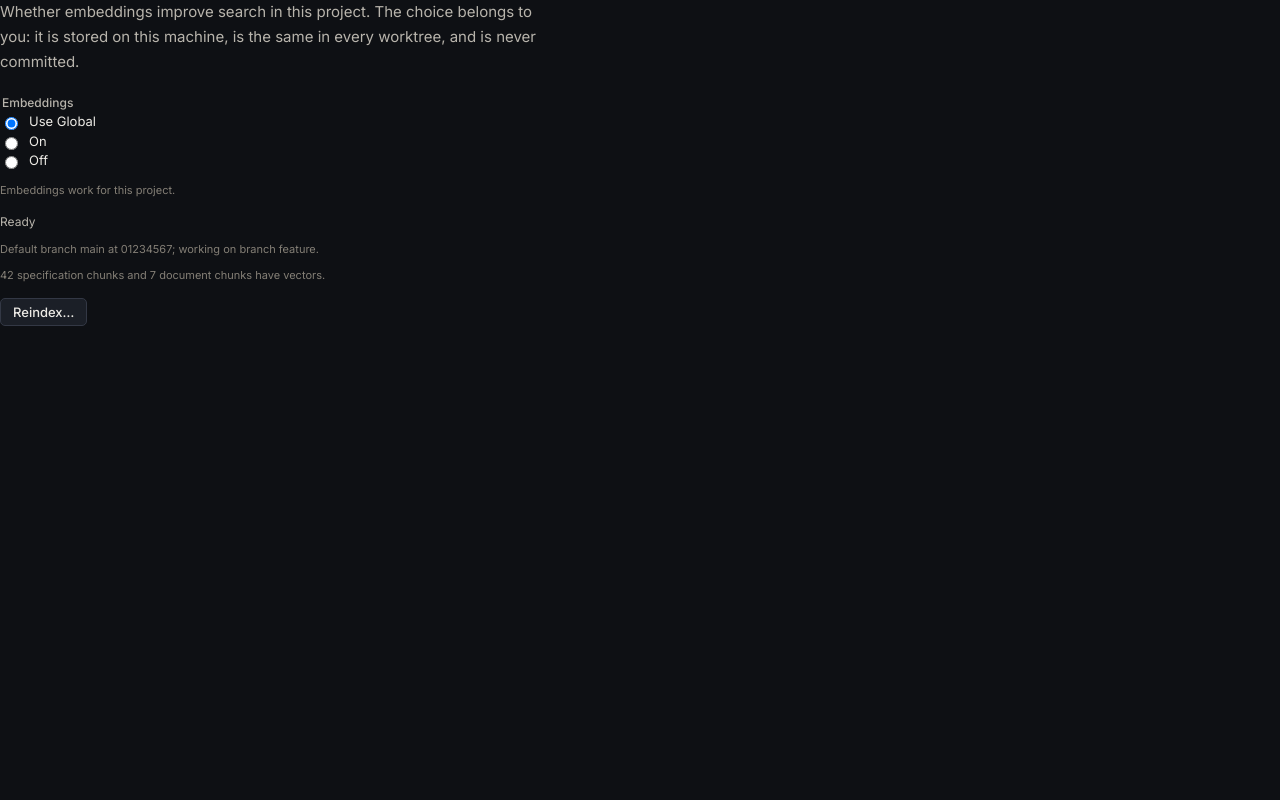
Test: Project Indexing section › SET-FR-WZPS: the dialog offers Current branch (selected) and Whole trace; confirming starts that scope
The width and height of the screenshot is (1280, 800).
Click the button "Reindex…". click: click(44, 312)
box: 0,298 -> 88,326
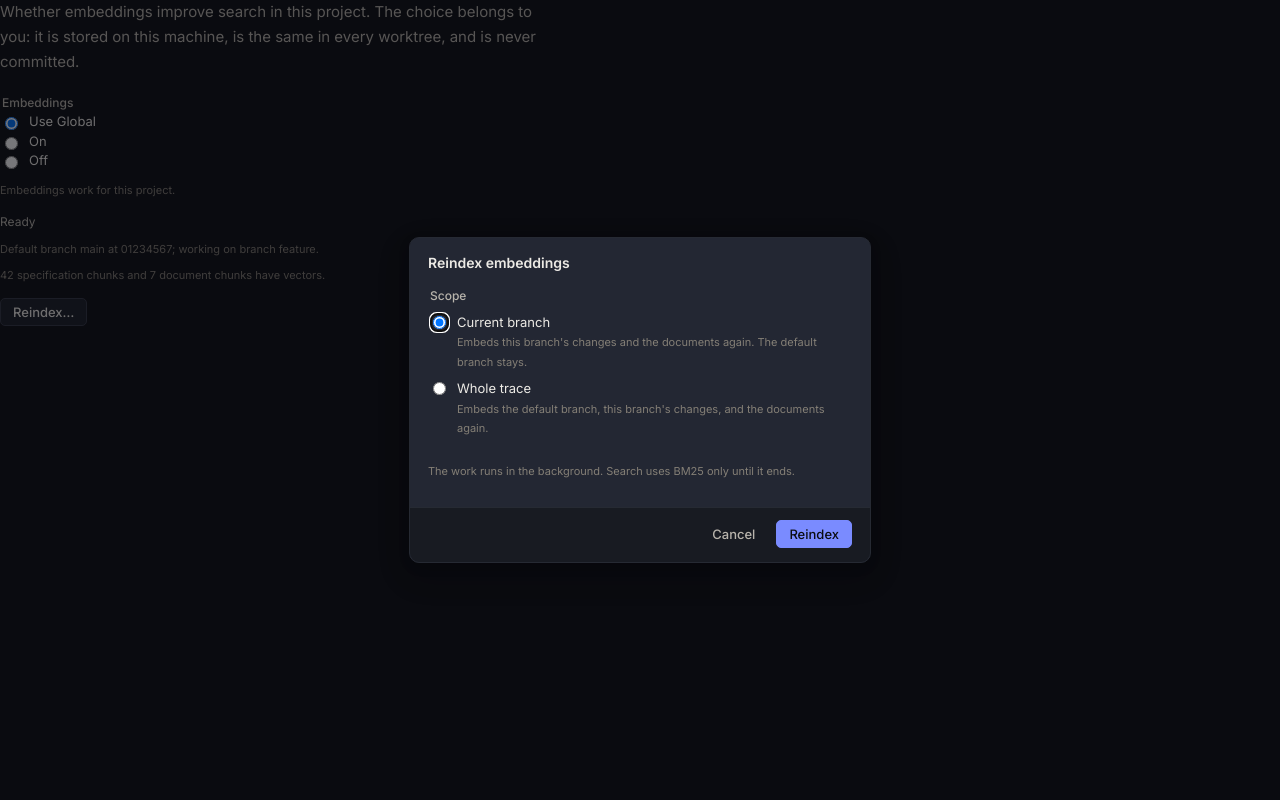
Check: the radio button labelled "Current branch" is checked, box 433,316 -> 446,329
Check: the element with test id "reindex-dialog" shows "The default branch stays", box 457,335 -> 817,369
Click the radio button labelled "Whole trace". click: click(440, 389)
box: 433,382 -> 446,395
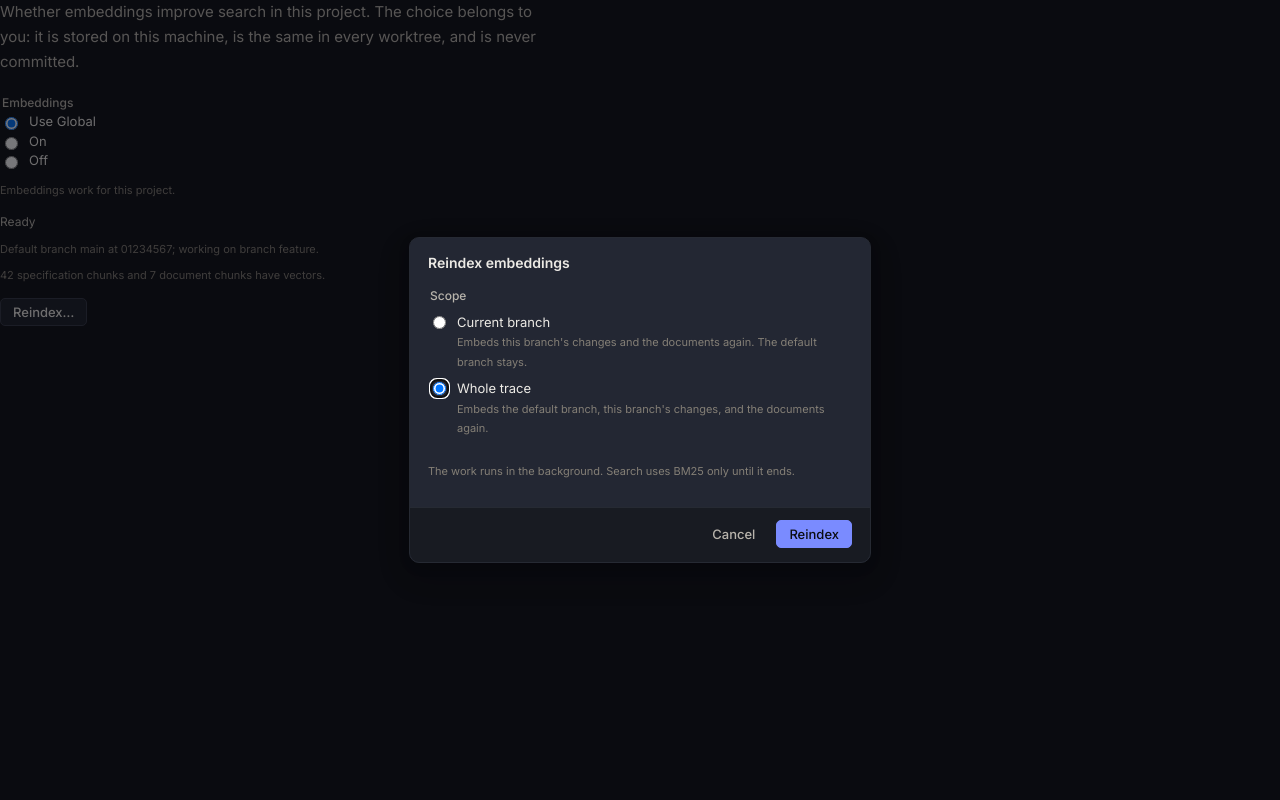
Click the button "Reindex". click: click(814, 534)
box: 776,520 -> 852,548
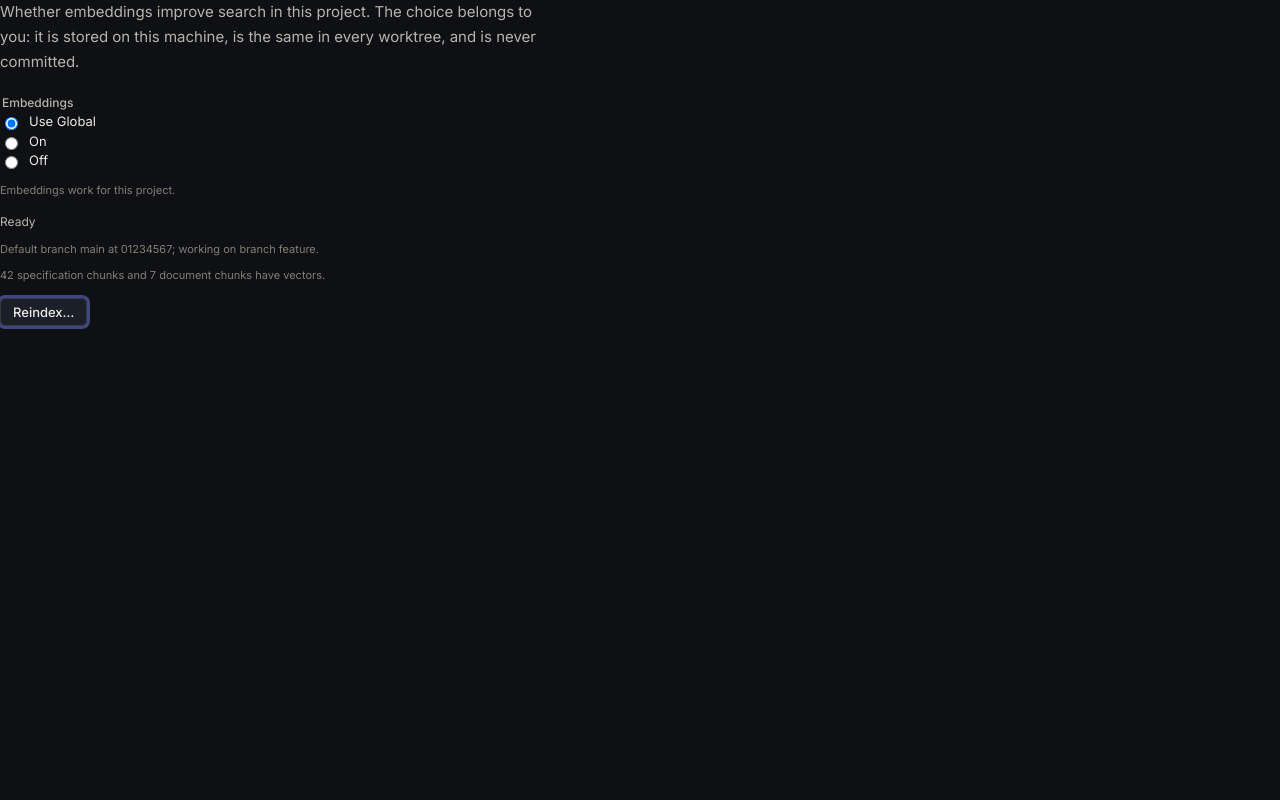
Check: the element with test id "reindex-dialog" is gone
